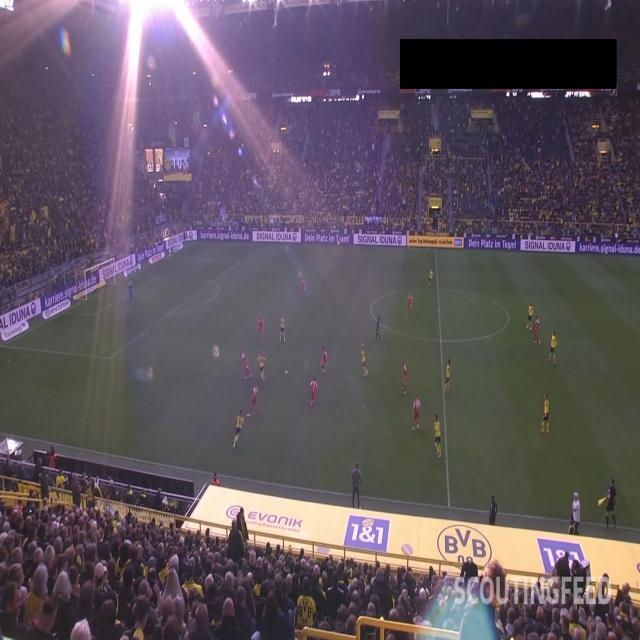ball: (282, 368, 290, 378)
f_player: (430, 415, 447, 468), (540, 392, 553, 438), (444, 354, 456, 397), (308, 372, 318, 414), (318, 340, 330, 375), (412, 395, 423, 432), (250, 383, 260, 419), (240, 348, 250, 383), (360, 346, 369, 384), (548, 331, 558, 364), (257, 350, 267, 382), (401, 358, 408, 399), (278, 316, 286, 348), (235, 411, 242, 447), (256, 312, 264, 342), (300, 273, 308, 301), (534, 314, 540, 351), (408, 290, 414, 320), (527, 301, 532, 336), (428, 269, 434, 291)
umpire: (599, 479, 620, 530), (373, 310, 385, 349), (335, 230, 341, 248)
